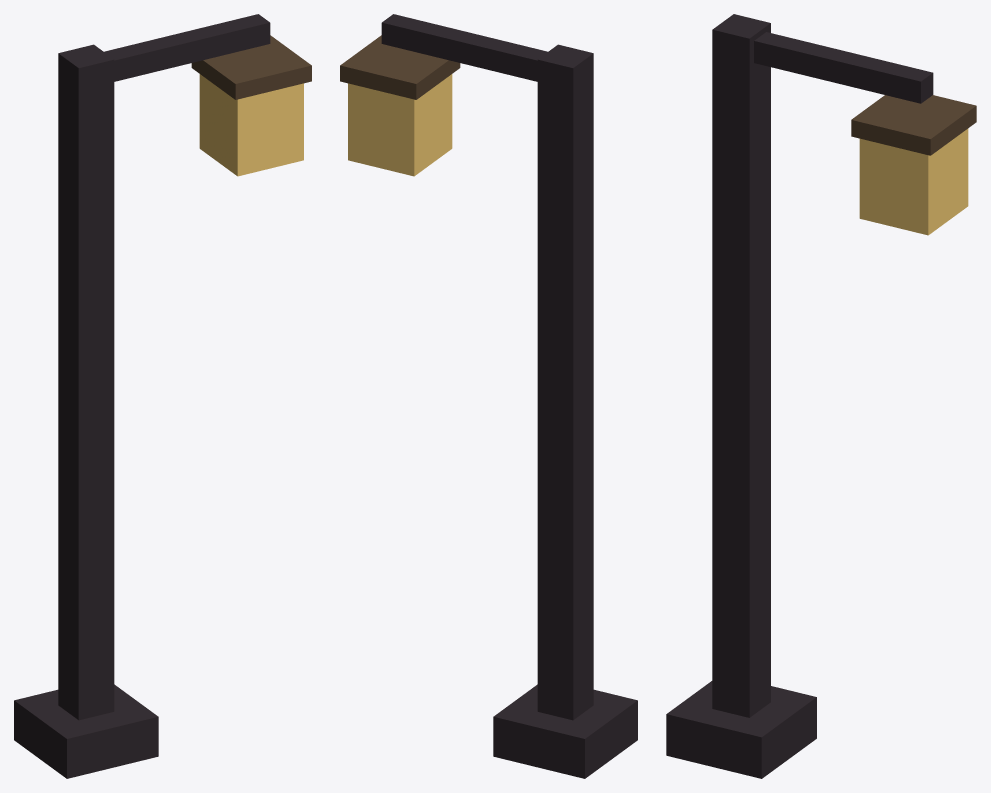
Rendered from lantern_post.glb.
The picture shows the model from 3 angles, left to right: view 1: azimuth 30°, elevation 25°; view 2: azimuth 150°, elevation 25°; view 3: azimuth 330°, elevation 25°; orthographic projection. The views are drawn at different scales.
Visible parts, largest first — view 1: lantern_post; view 2: lantern_post; view 3: lantern_post.
Part boxes in pixels (bbox=[...]): lantern_post: bbox=[14, 14, 311, 778]; lantern_post: bbox=[340, 14, 637, 778]; lantern_post: bbox=[666, 14, 976, 778].
Bounding box in the file's own units: 0.98 × 2.6 × 0.36.
1 material, 1 textured.
